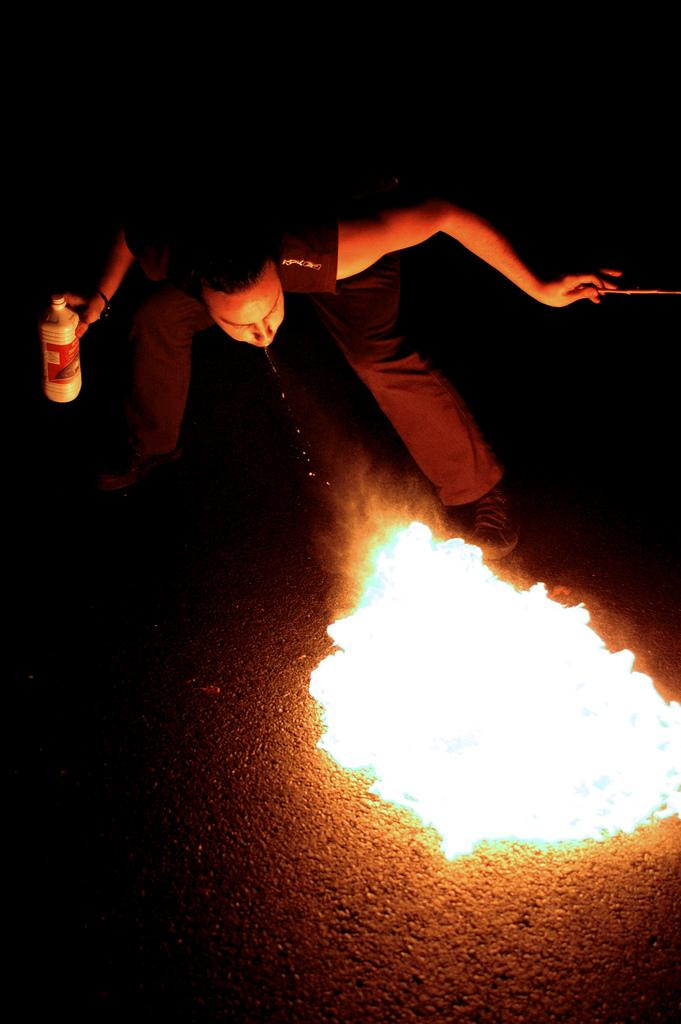fire: (372, 602, 595, 840)
